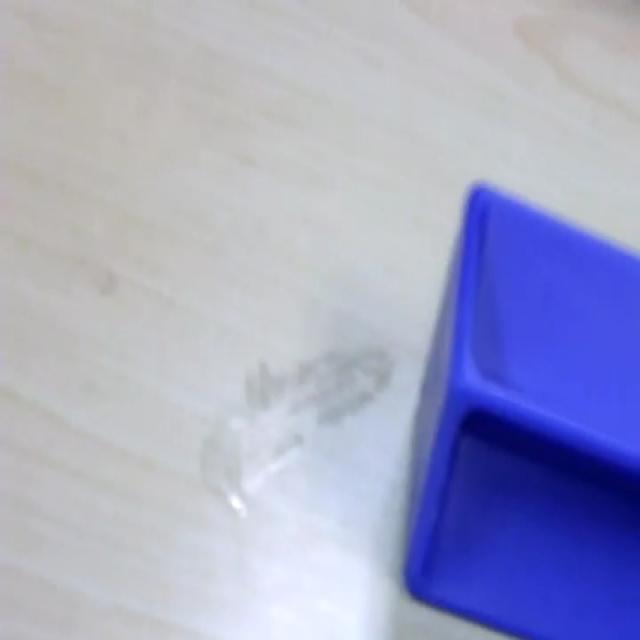blue_block: (402, 178, 638, 638)
